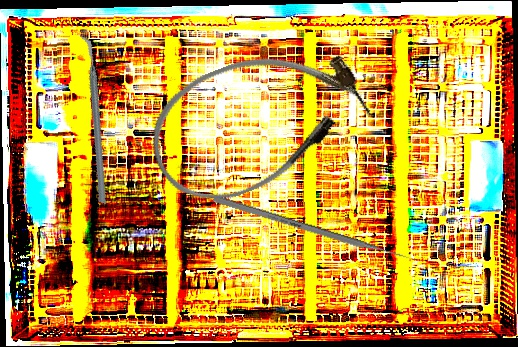Cannula: (131, 23, 383, 220)
Chopper: (30, 34, 156, 205)
Pusher: (212, 194, 420, 266)
